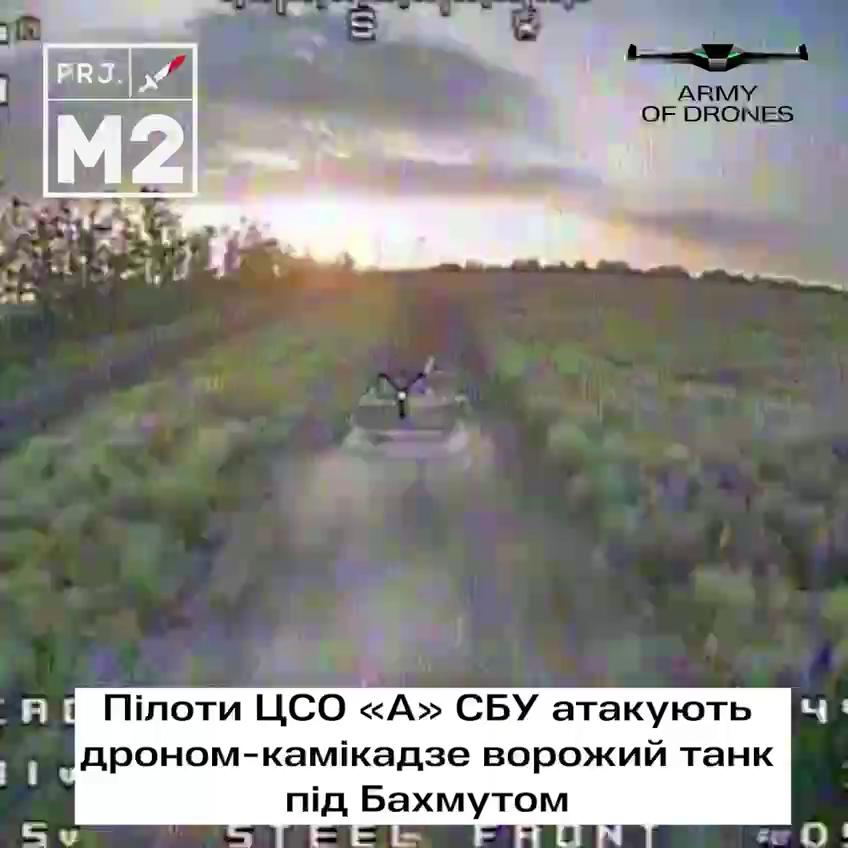tank: (340, 353, 484, 515)
